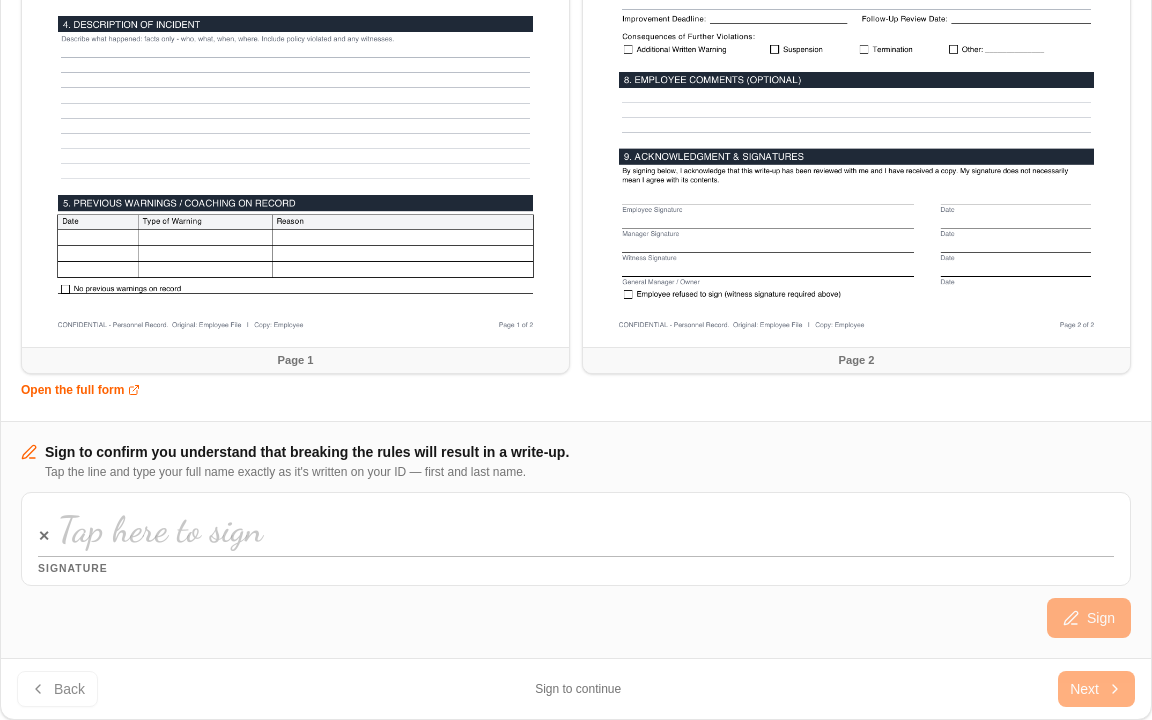
Test: RulesSlideshow › shows the server's refusal against the signature
(page scrolled)
Type "Noah Williams" into the field named "Your signature". click: [586, 530]
box: [58,507,1114,552]
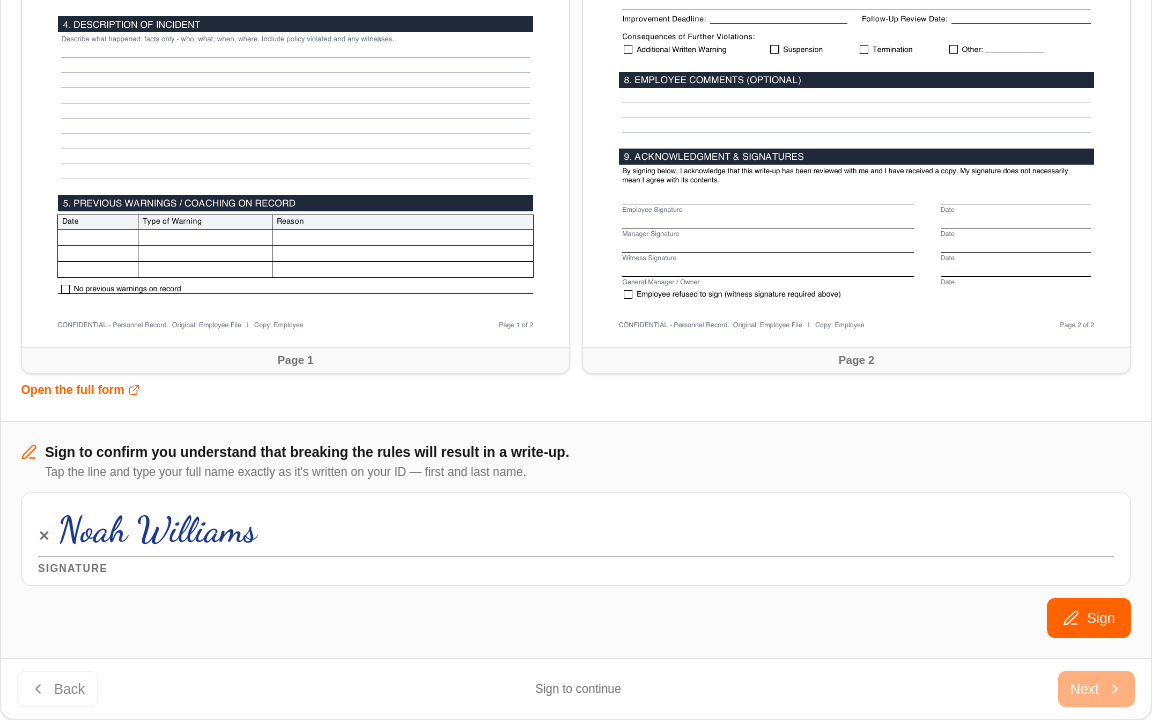
Click the button "Sign". click: [1089, 618]
box: [1047,598,1131,638]
(page scrolled)
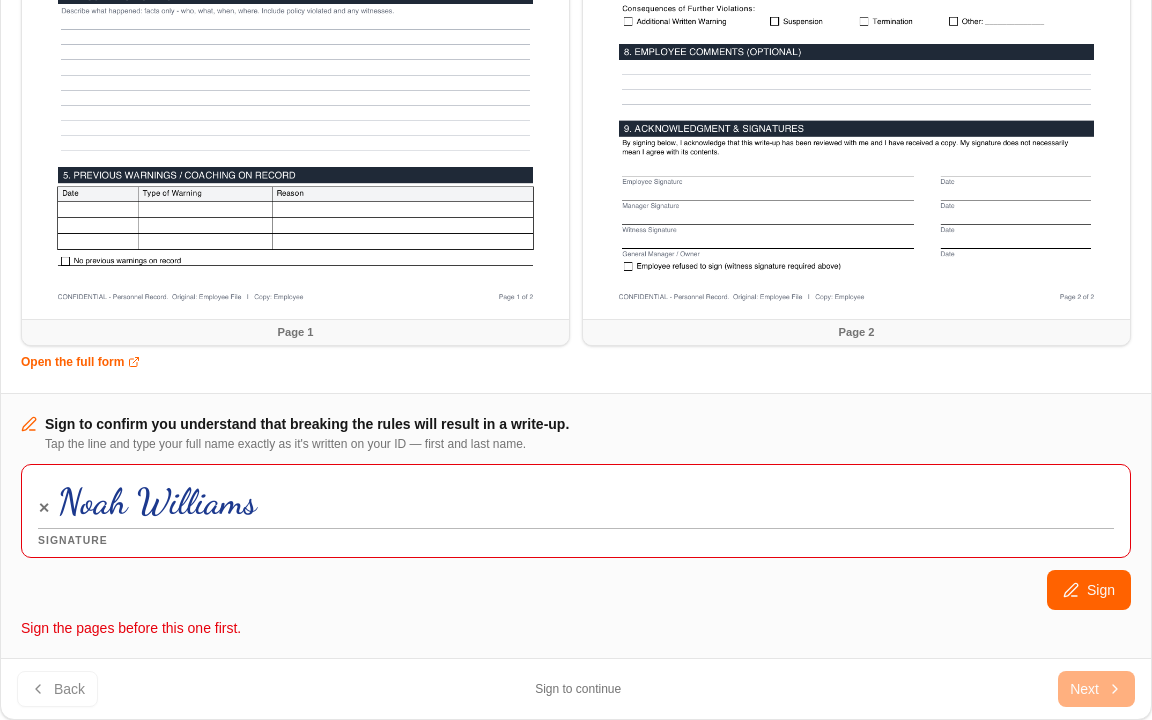
Expected: the button "Next" is disabled, [1058,671,1135,707]
Expected: the message shows "Sign the pages before this one", [21,620,241,636]
